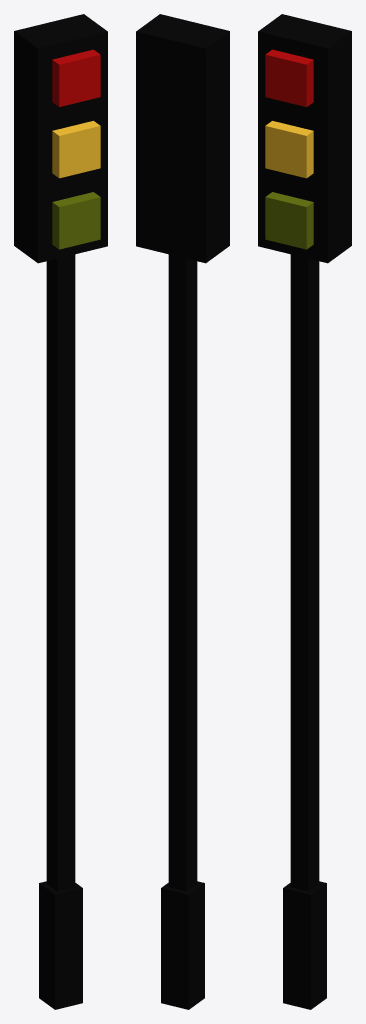
File: CityLampTrafficLighs.fbx
3 renders of one model, left to right at view 1: azimuth 30°, elevation 25°; view 2: azimuth 150°, elevation 25°; view 3: azimuth 330°, elevation 25°, orthographic.
Parts seen in each view (by area): view 1: CityLampTrafficLighs, CityLampTrafficLighsGreen, CityLampTrafficLighsRed, CityLampTrafficLighsYellow; view 2: CityLampTrafficLighs; view 3: CityLampTrafficLighs, CityLampTrafficLighsGreen, CityLampTrafficLighsRed, CityLampTrafficLighsYellow.
Part boxes in pixels (<box>): CityLampTrafficLighs: <box>14,14,107,1009</box>; CityLampTrafficLighsGreen: <box>52,192,100,249</box>; CityLampTrafficLighsRed: <box>52,49,100,106</box>; CityLampTrafficLighsYellow: <box>52,121,100,178</box>; CityLampTrafficLighs: <box>136,14,229,1009</box>; CityLampTrafficLighs: <box>258,14,351,1009</box>; CityLampTrafficLighsGreen: <box>265,192,313,249</box>; CityLampTrafficLighsRed: <box>265,49,313,106</box>; CityLampTrafficLighsYellow: <box>265,121,313,178</box>.
Bounding box in the file's own units: 0.0461 × 0.6126 × 0.0354.
